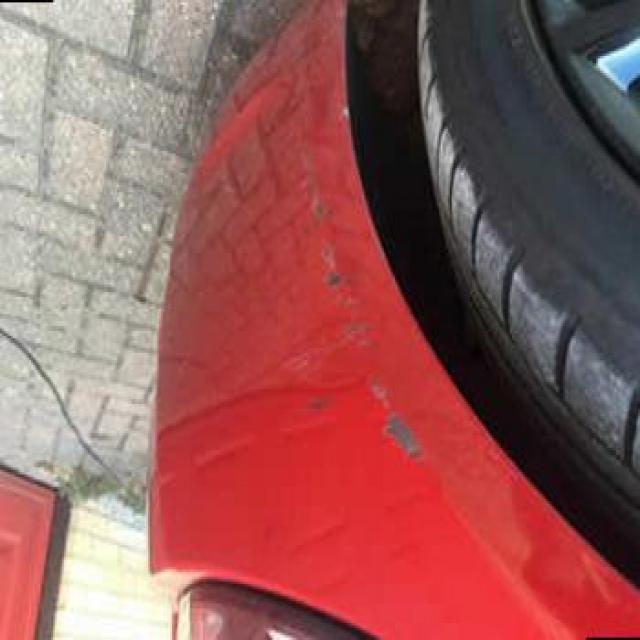scratch: (256, 92, 422, 490)
